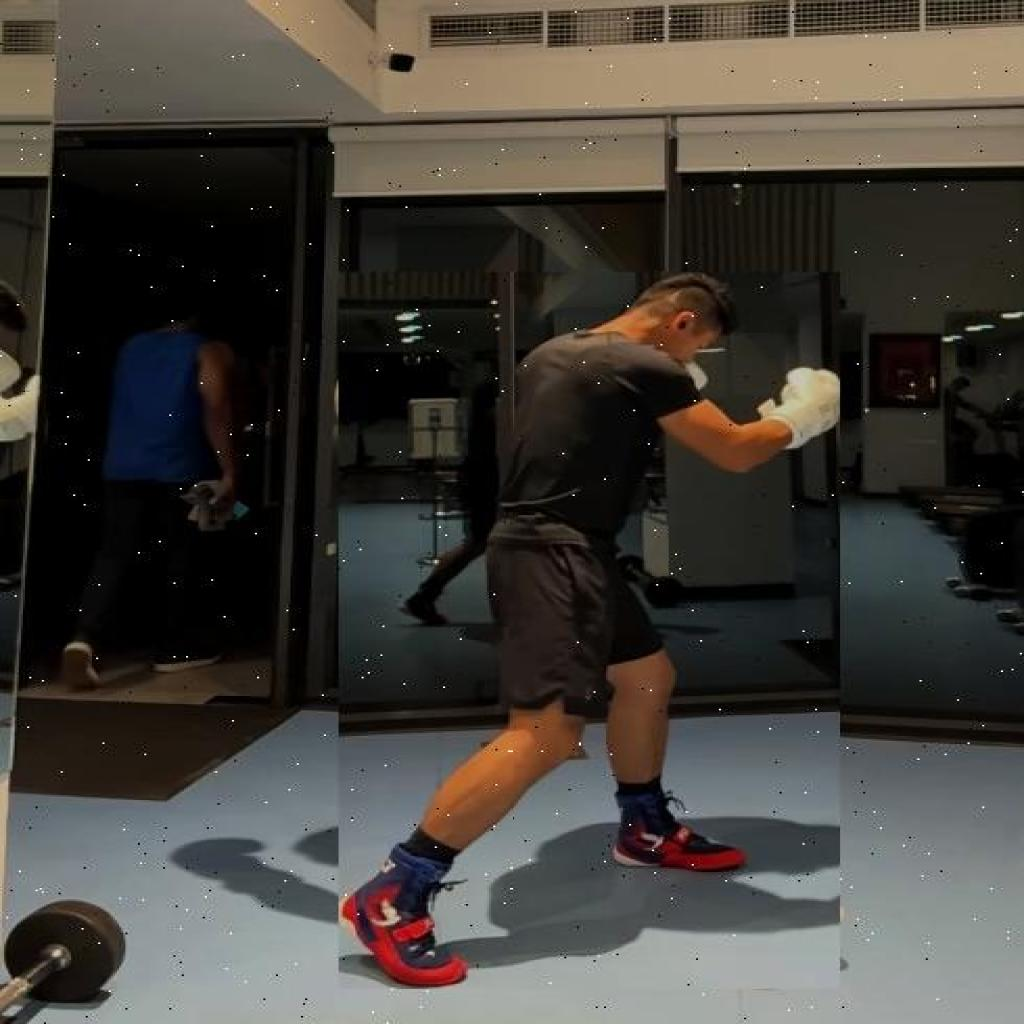uppercut: (339, 272, 841, 990)
